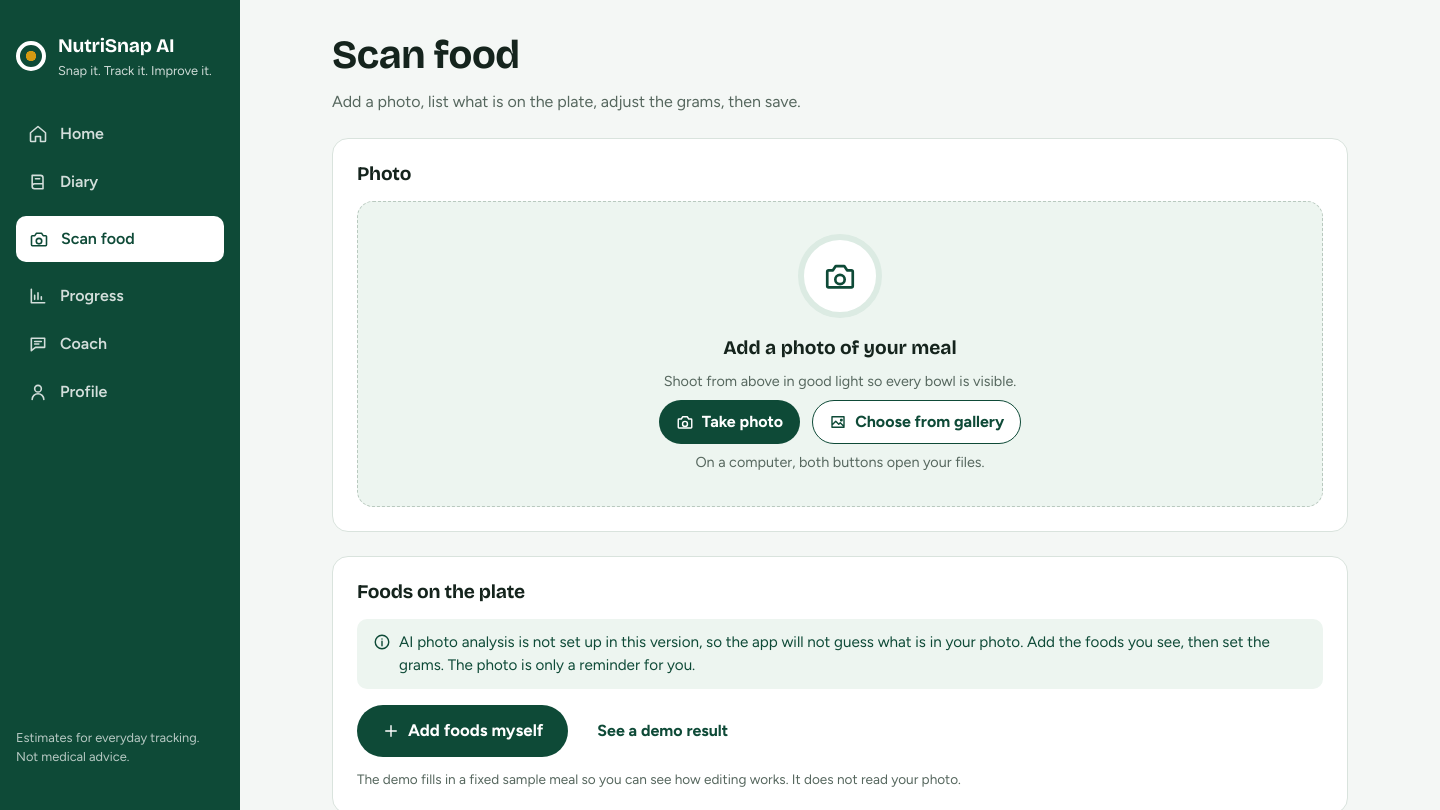
Scenario: user workflows › blocks saving an empty meal with a clear message
Click the button "Add foods myself" at point(463, 731), box [357,705,568,757]
(page scrolled)
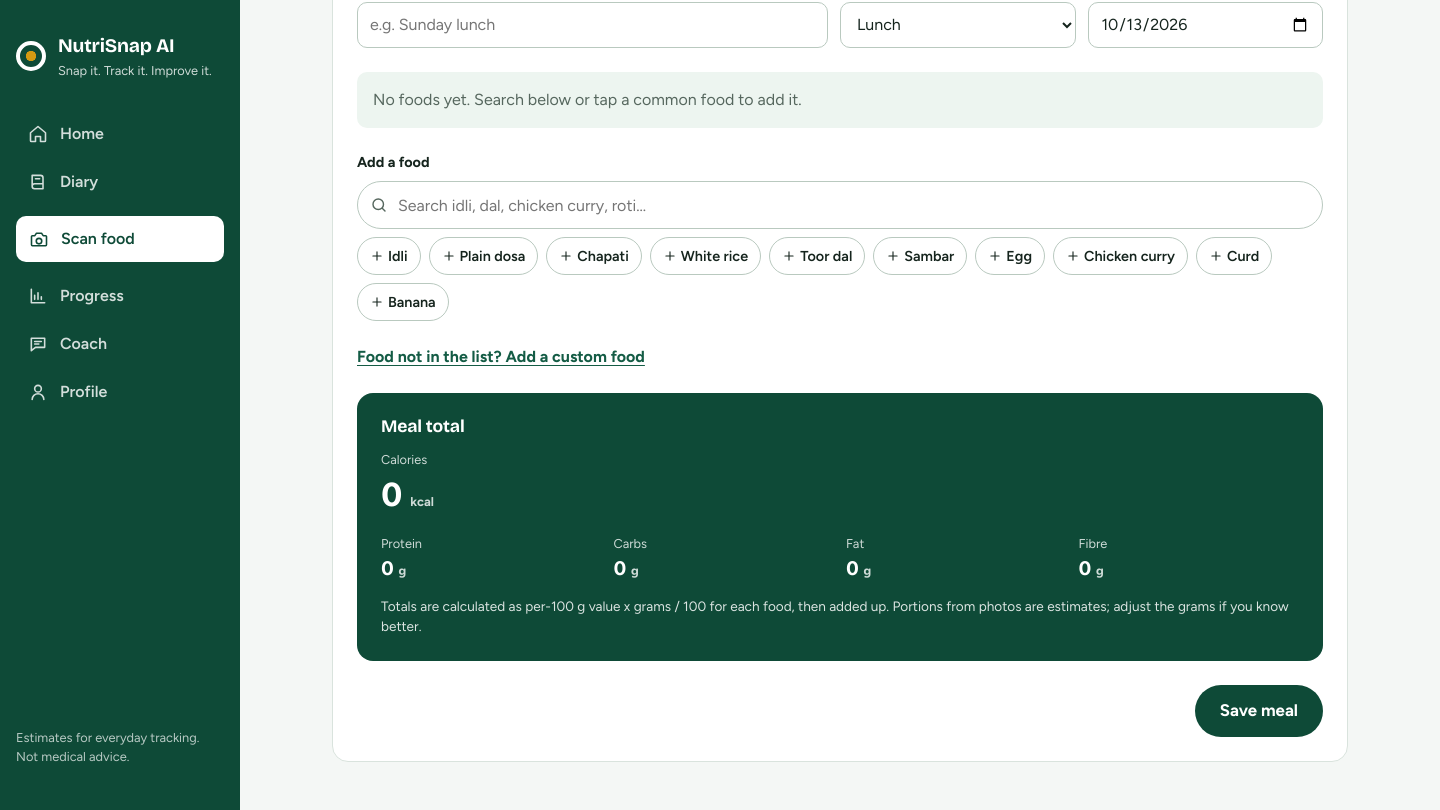
Click the button "Save meal" at point(1259, 711), box [1195,685,1323,737]
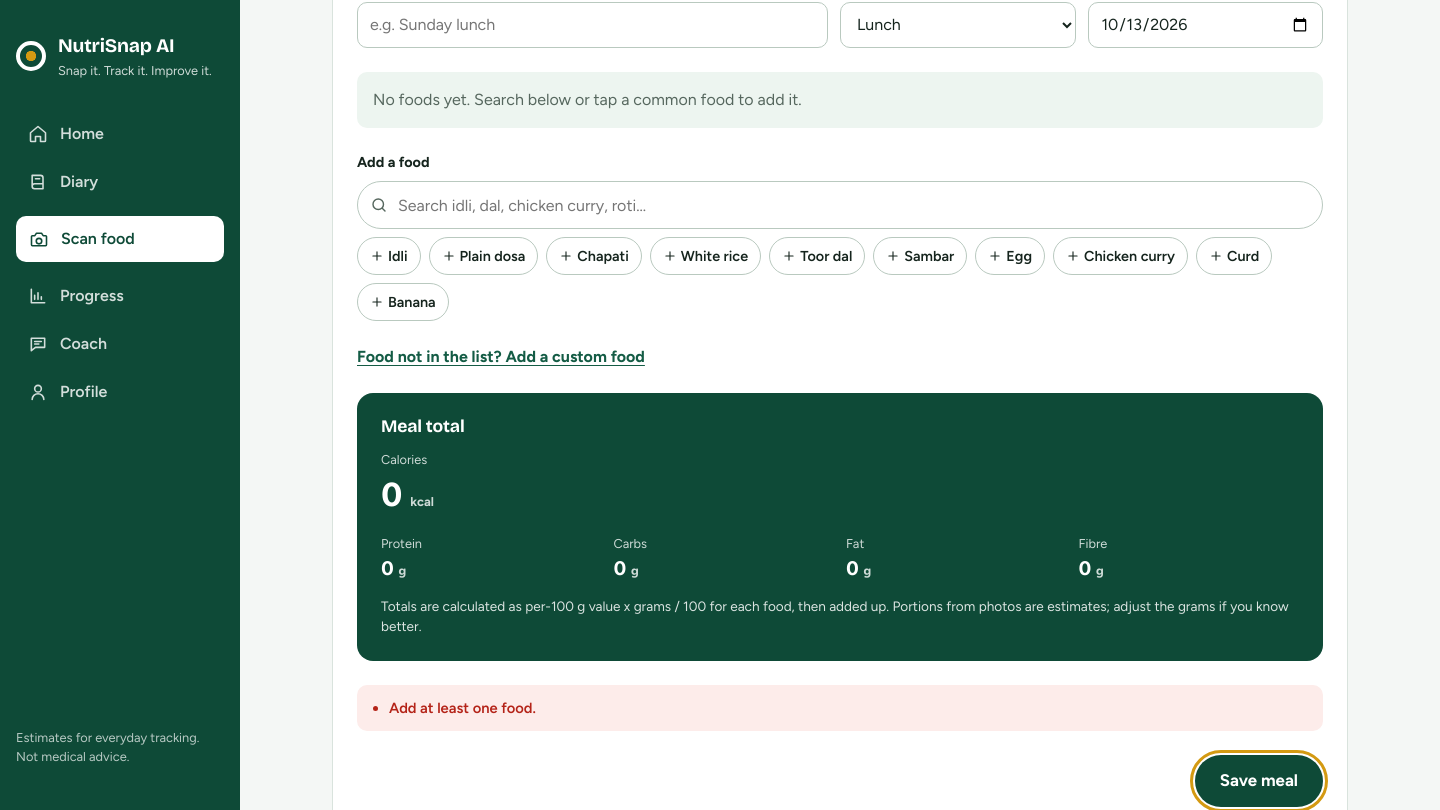
Expected: the message reads "Add at least one food.", [389,699,536,717]
